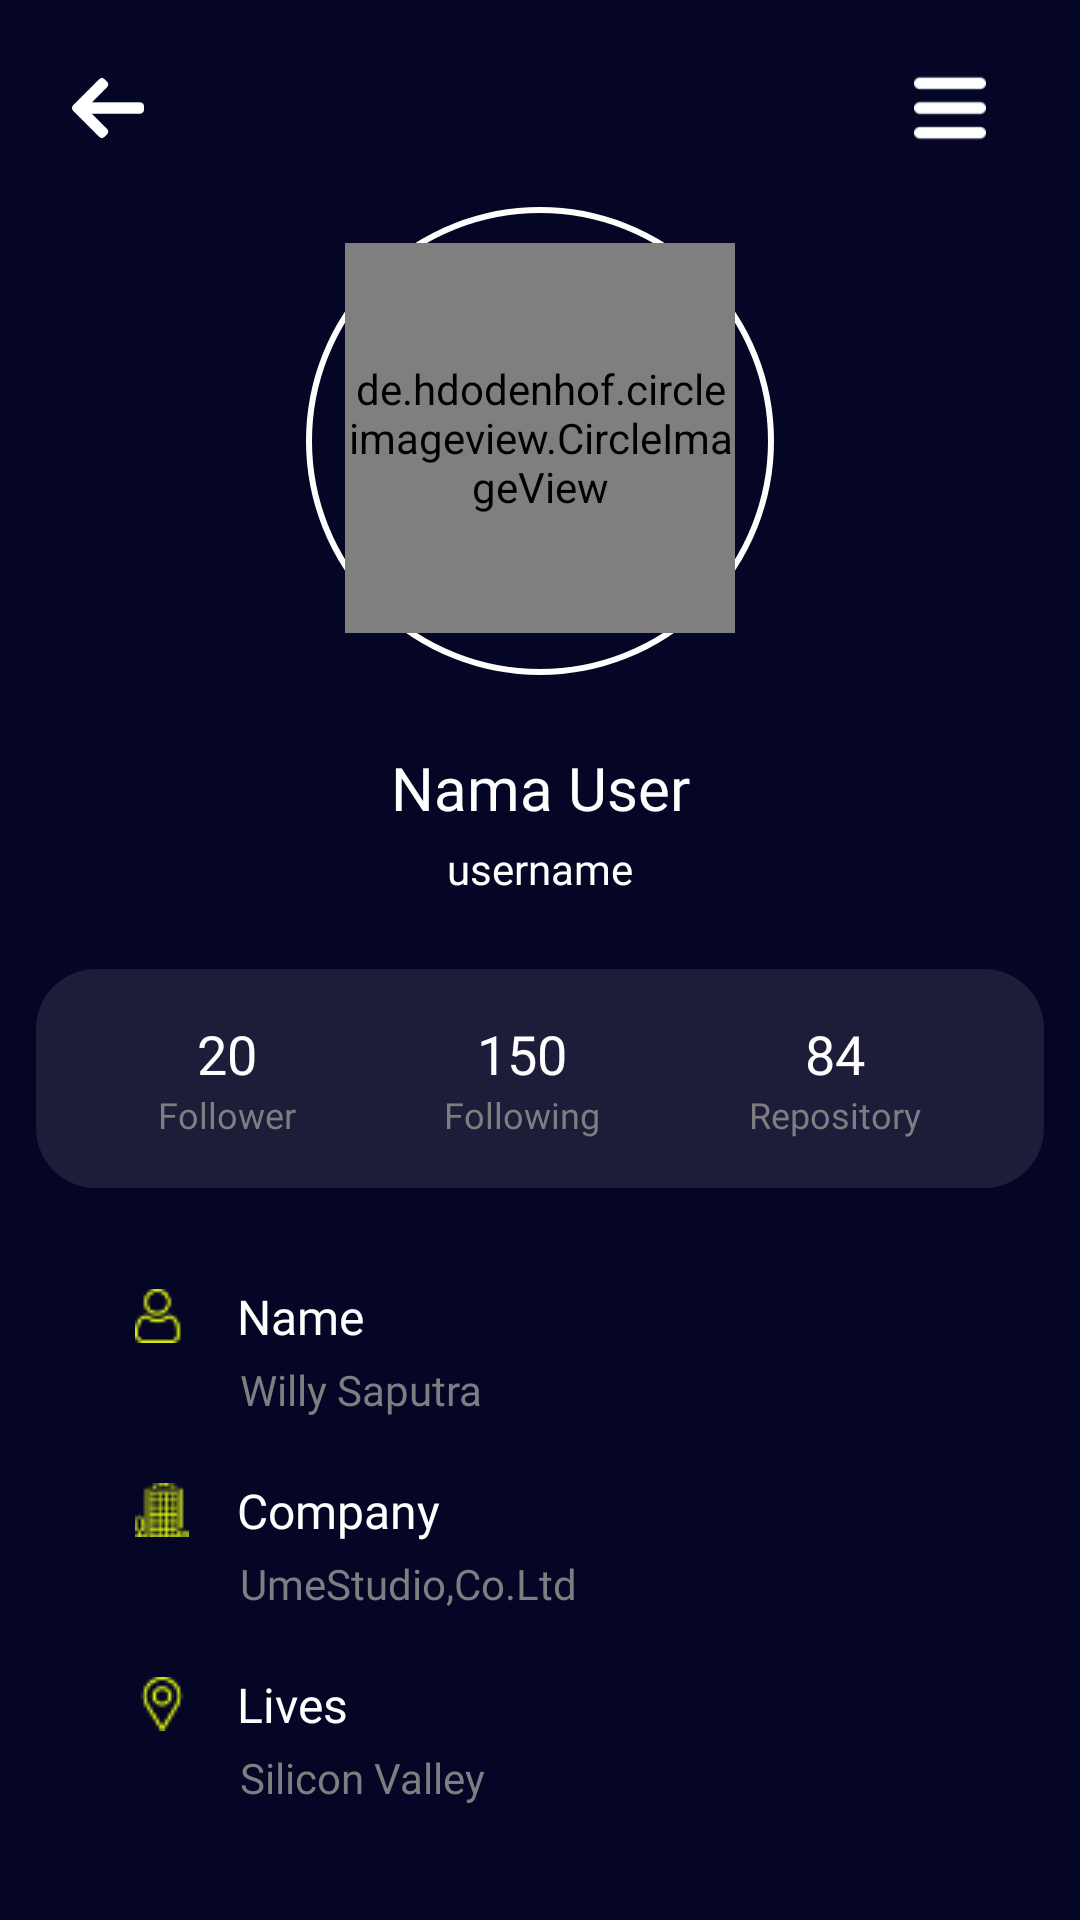

Icon bounding boxes for this 1080px×1920px phone screenshot, format BBox(x1, y1, x2, y2):
left arrow: BBox(72, 78, 144, 138)
menus: BBox(914, 76, 986, 140)
